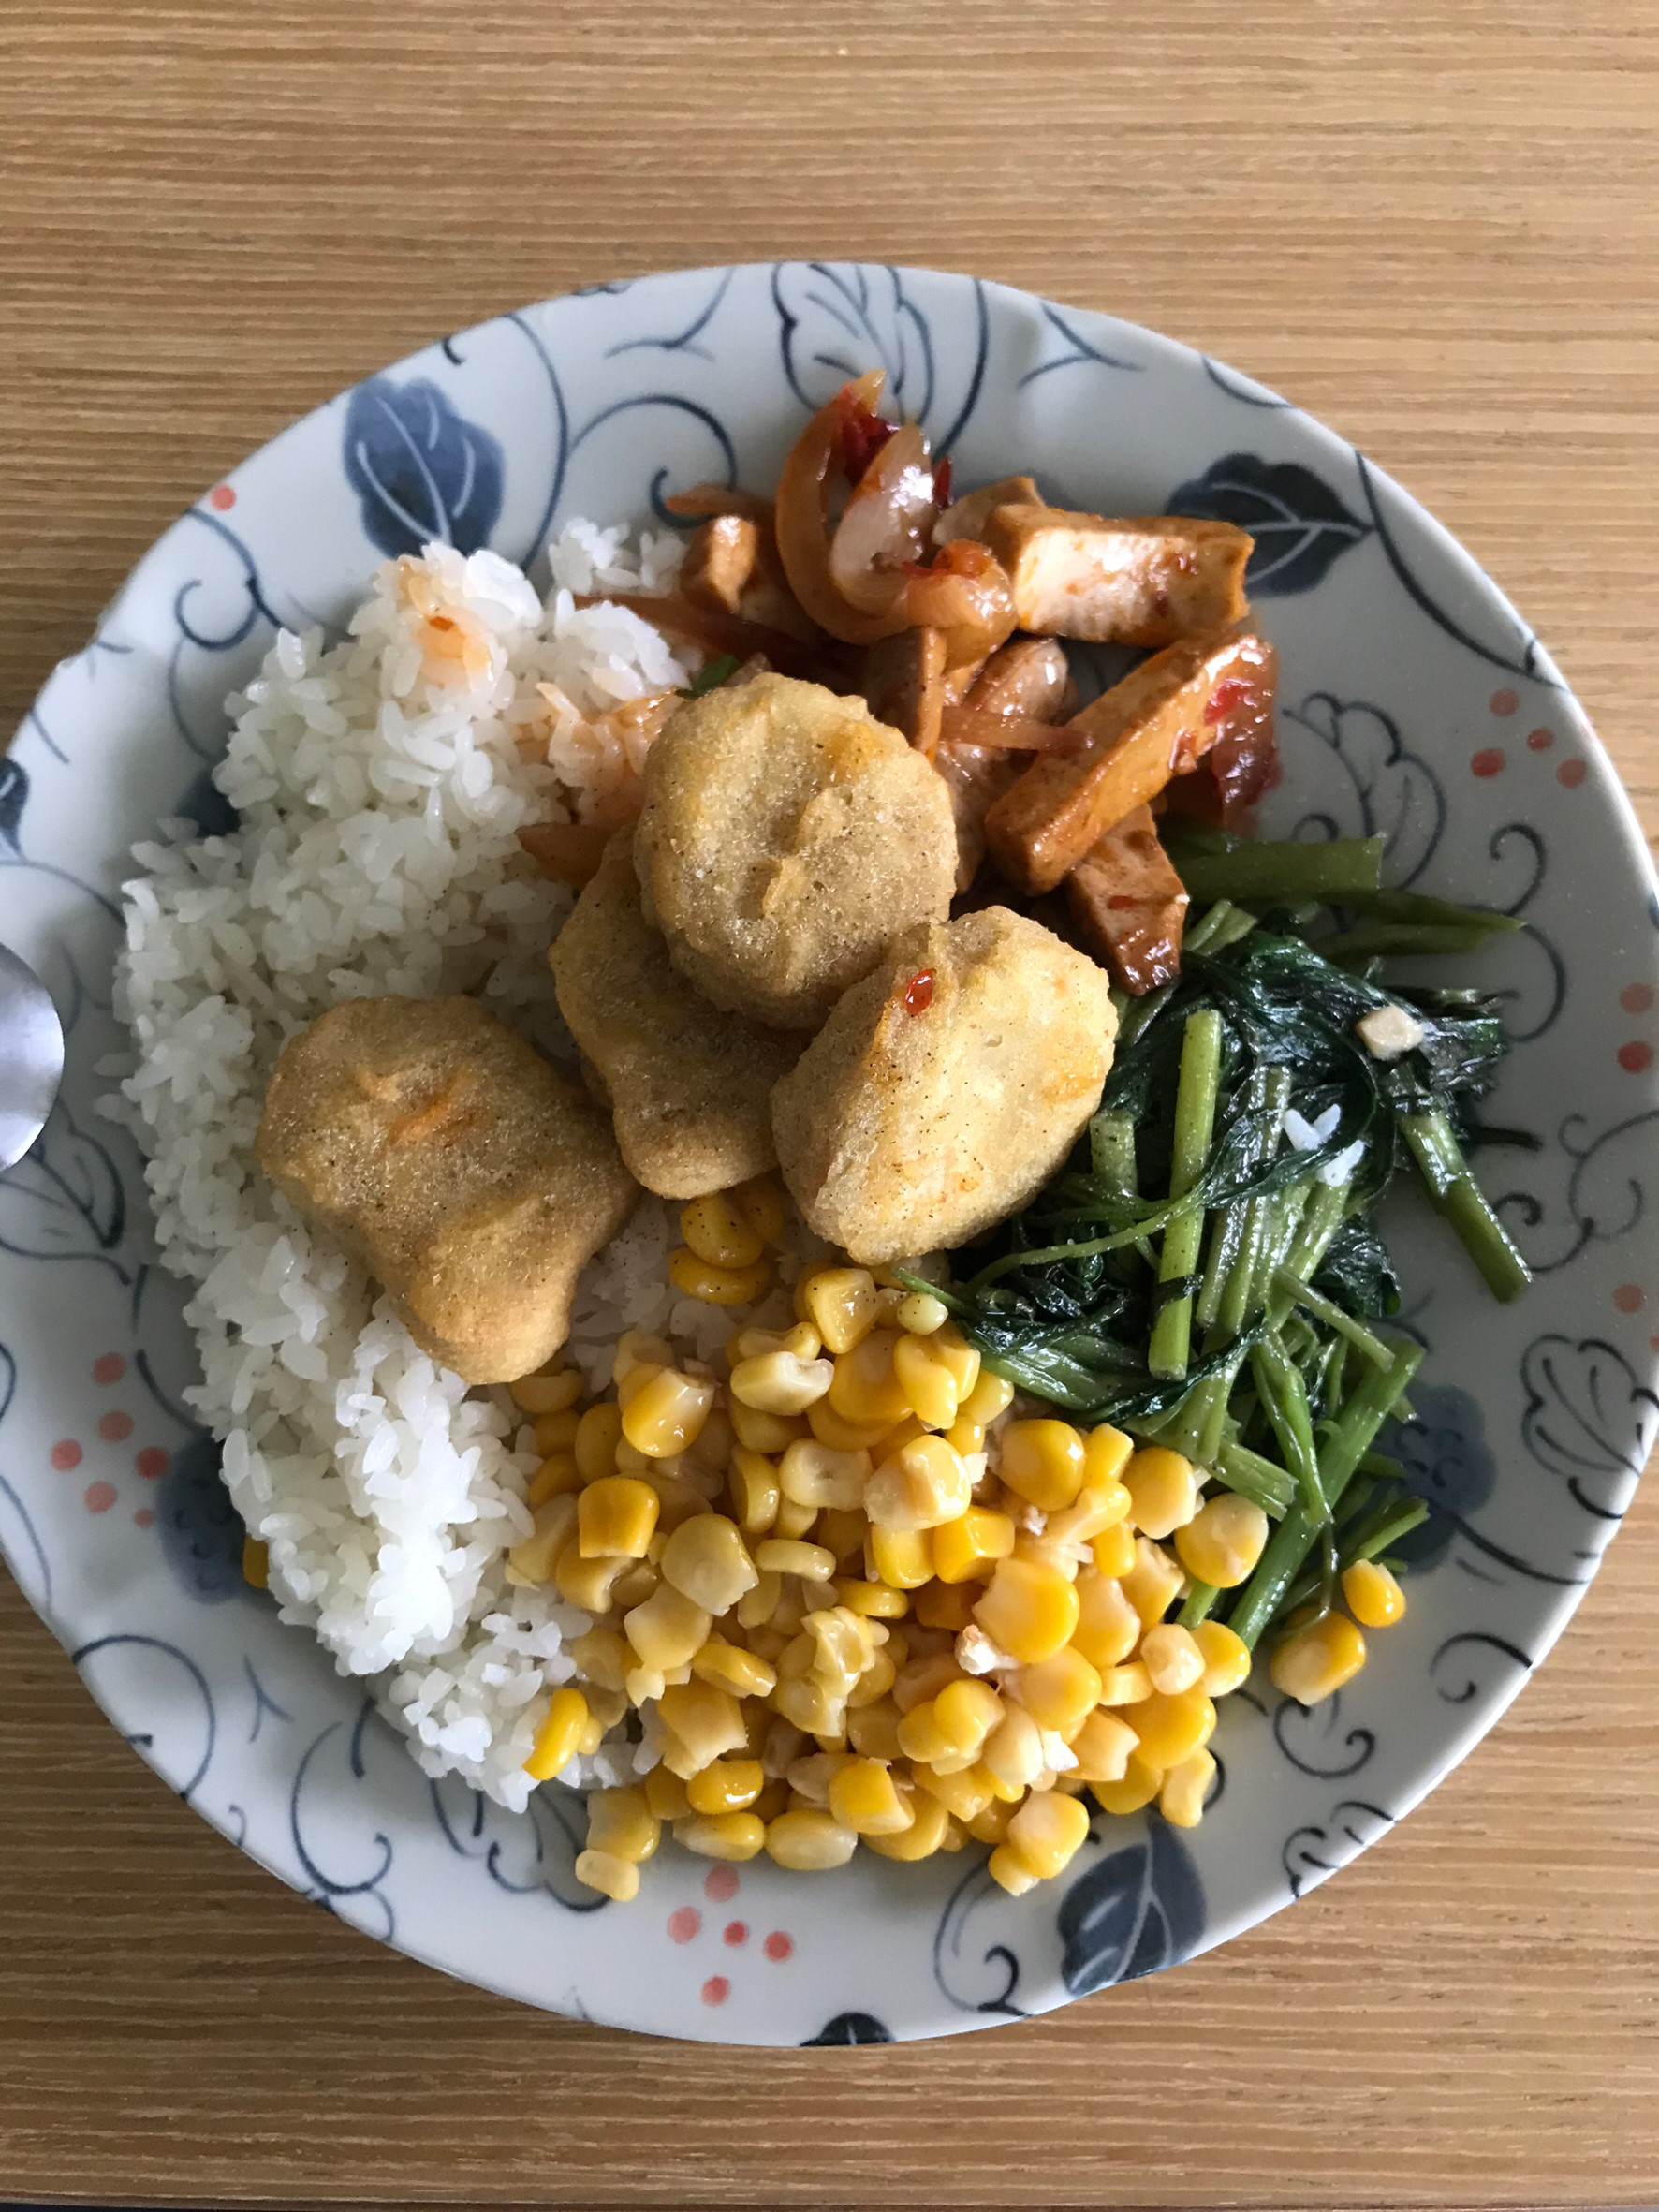chicken_nuggets: (275, 676, 1114, 1353)
rice: (92, 530, 648, 1027)
water_spinach: (1066, 922, 1516, 1431)
